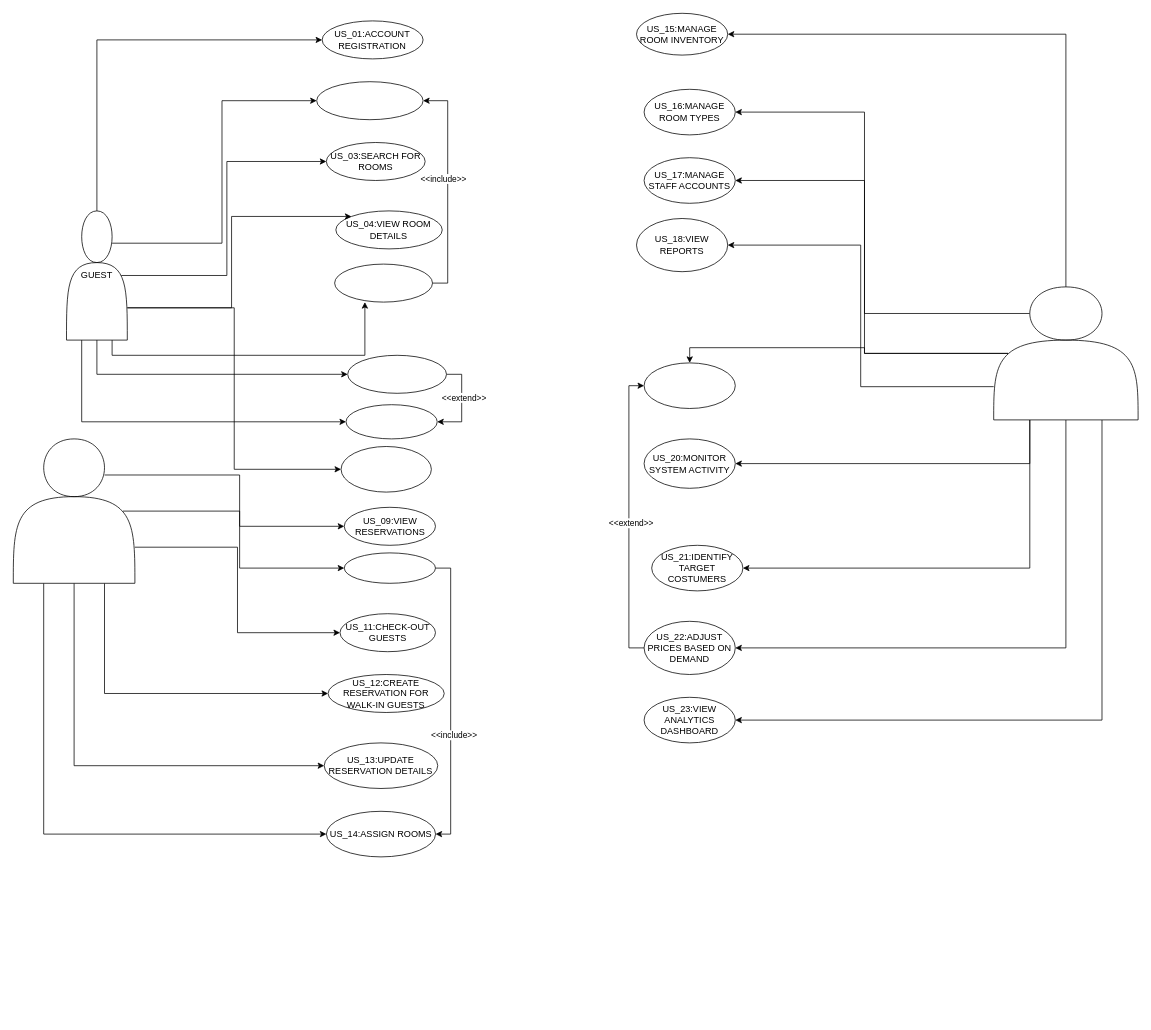
Some shapes in this 1151 by 1030 pixel diagram are drawn without their labels. The shapes that lost their labels are listed below. From the top down, each one's centre as x and y in pixels, then its label:
At [369,100]: "US_02:LOGIN TO SYSTEM".
At [383,282]: "US_05:BOOK A ROOM".
At [1065,353]: "ADMINISTRATOR".
At [396,374]: "US_06:CANCEL RESERVATION".
At [689,385]: "US_19:MANAGE PRICING".
At [391,421]: "US_07:VIEW BOOKING HISTORY".
At [385,469]: "US_08:UPDATE PROFILE INFORMATION".
At [74,510]: "RECEPTIONIST".
At [389,567]: "US_10:CHECK-IN GUESTS".
